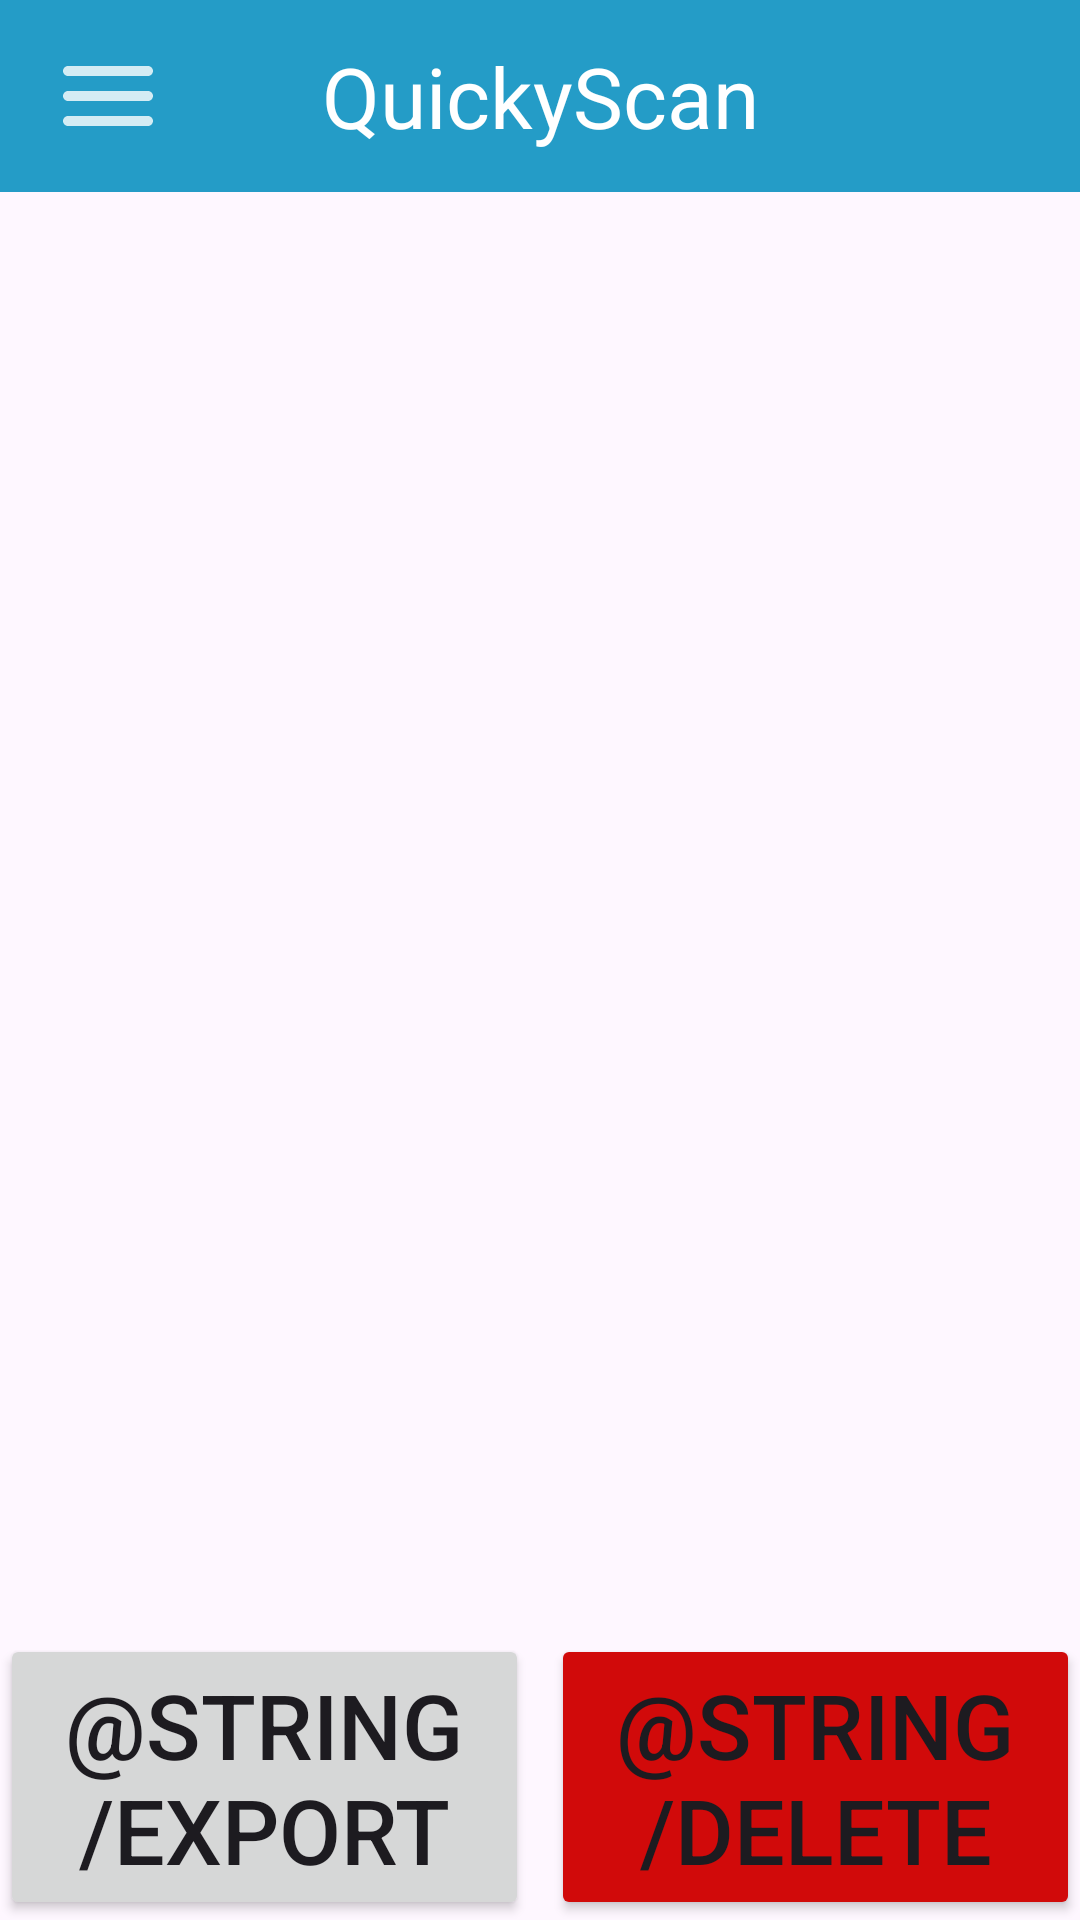

Locate icon controls on the screen. Image size 1080px×1920px, boxes as box(x1, y1, x2, y2).
menu: box(63, 66, 153, 126)
